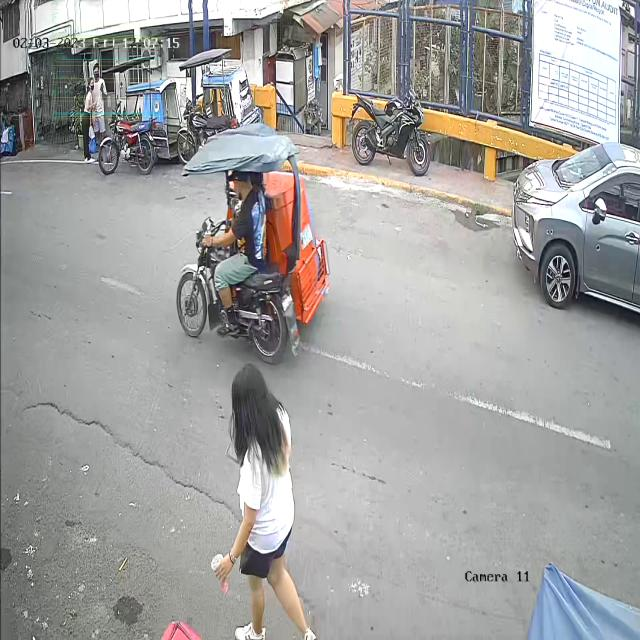human: (211, 363, 317, 640)
trash: (208, 546, 230, 594)
